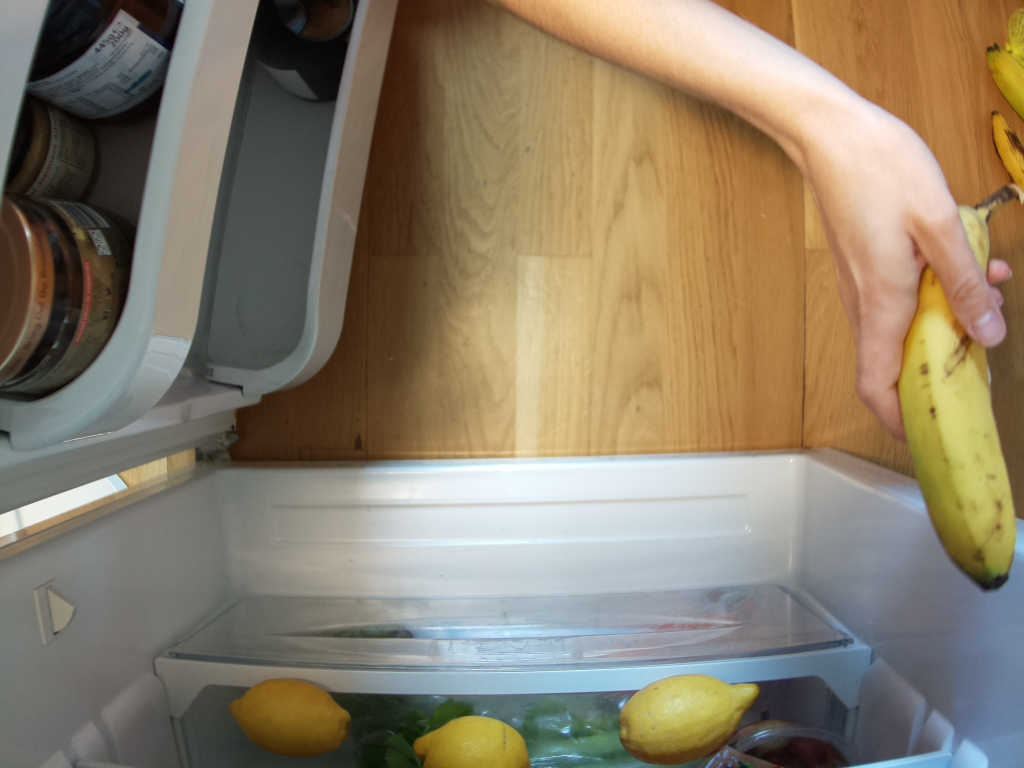banana: (896, 180, 1024, 591)
